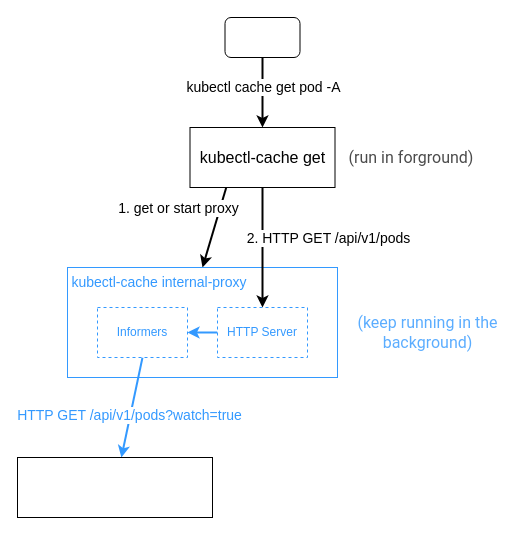
Some shapes in this 532 by 535 pixel diagram are drawn without their labels. Each missing label, with the centre of its shape:
"Kubernetes APIServer" goes at point (114, 487).
"User" goes at point (262, 37).
